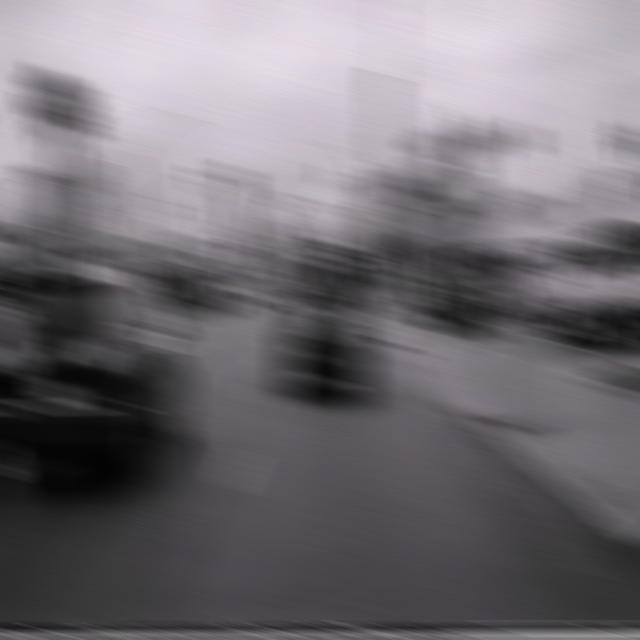speedLimit30: (378, 192, 409, 229)
